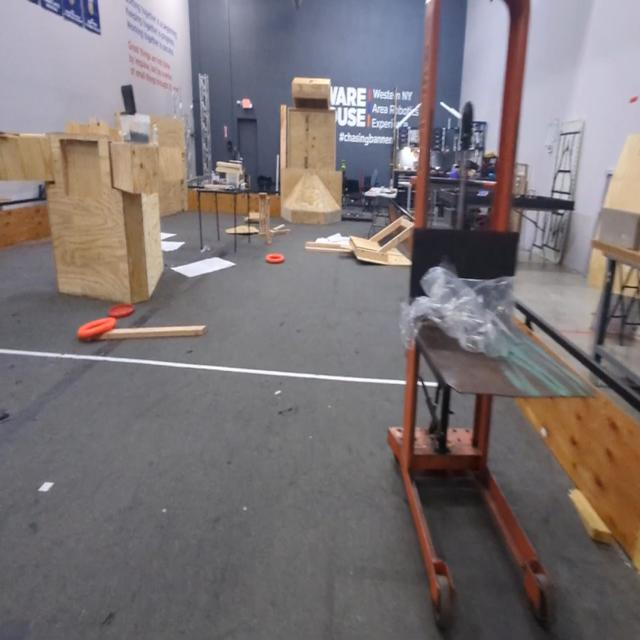note: (75, 312, 118, 343), (267, 252, 285, 264)
